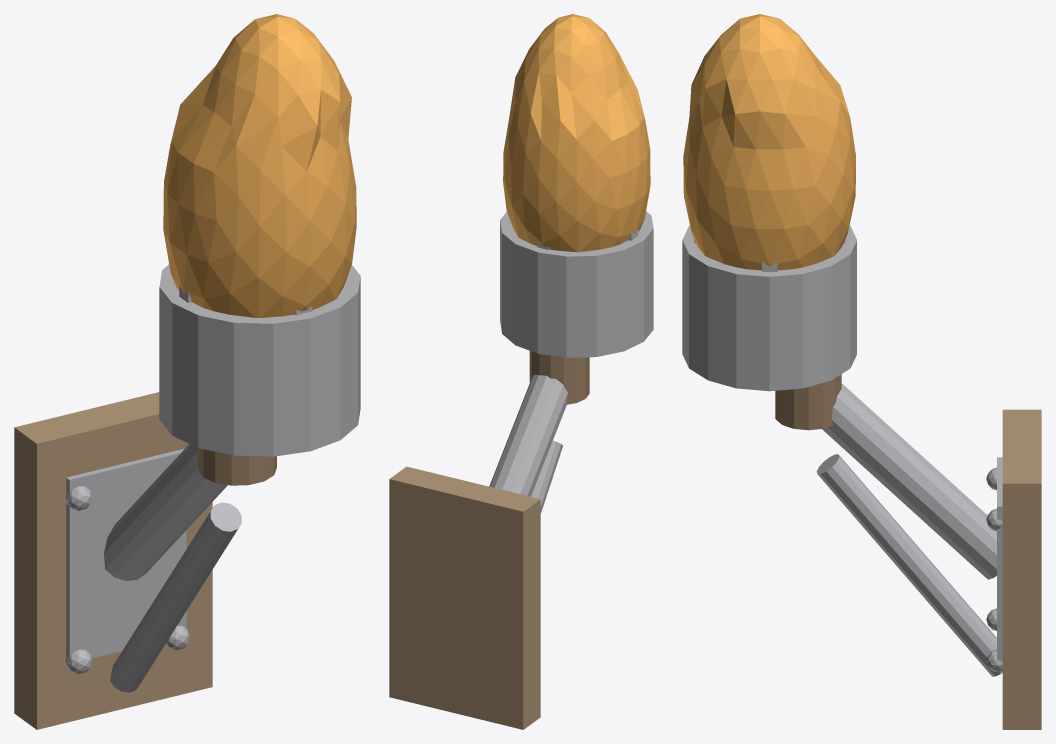
The model's file is temp_wall_torch.glb.
3 views of the same model, side by side, from view 1: azimuth 30°, elevation 25°; view 2: azimuth 150°, elevation 25°; view 3: azimuth 270°, elevation 25° (orthographic). The views are drawn at different scales.
Visible parts, largest first — view 1: OuterFlame, MountPlate, Cup, MountCap, Arm, Brace, Wrap; view 2: MountPlate, OuterFlame, Cup, Arm, Wrap, Brace; view 3: OuterFlame, Cup, MountPlate, Arm, Brace, Wrap, MountCap.
Boxes of the visible parts, <box> form: OuterFlame: <box>163,14,356,317</box>; MountPlate: <box>14,392,212,729</box>; Cup: <box>159,264,360,456</box>; MountCap: <box>66,449,186,658</box>; Arm: <box>104,444,227,580</box>; Brace: <box>110,502,241,692</box>; Wrap: <box>198,448,276,485</box>; MountPlate: <box>389,466,540,729</box>; OuterFlame: <box>503,14,650,252</box>; Cup: <box>500,211,653,357</box>; Arm: <box>489,374,567,496</box>; Wrap: <box>529,351,589,404</box>; Brace: <box>531,440,562,513</box>; OuterFlame: <box>683,14,856,270</box>; Cup: <box>682,225,856,391</box>; MountPlate: <box>1002,409,1041,729</box>; Arm: <box>822,383,996,579</box>; Brace: <box>816,454,1002,676</box>; Wrap: <box>775,374,841,430</box>; MountCap: <box>997,457,1002,661</box>.
Size of the model in its own units: 0.18 by 0.775 by 0.37.
